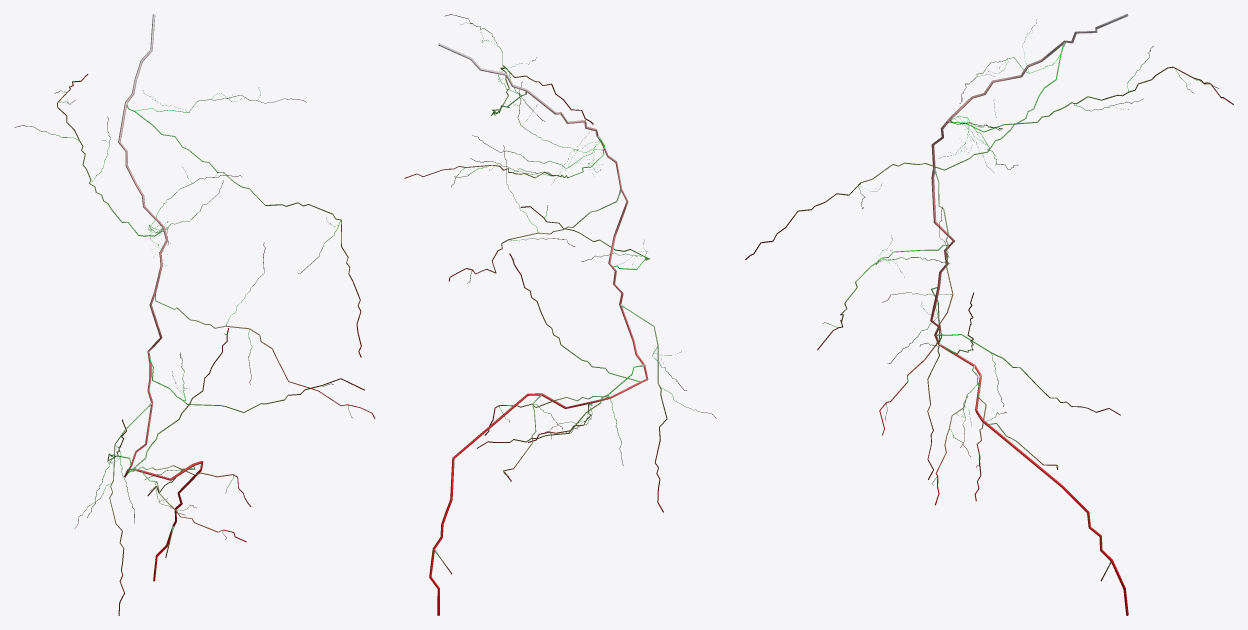
File: SM_Lightning_01.fbx
3 renders of one model, left to right at view 1: azimuth 30°, elevation 25°; view 2: azimuth 150°, elevation 25°; view 3: azimuth 270°, elevation 25°, orthographic. The views are drawn at different scales.
Visible parts, largest first — view 1: timeshift2; view 2: timeshift2; view 3: timeshift2.
Part boxes in pixels (bbox=[...]): timeshift2: bbox=[14, 14, 375, 615]; timeshift2: bbox=[404, 14, 716, 615]; timeshift2: bbox=[745, 14, 1233, 615].
Bounding box in the file's own units: 52.25 × 100 × 73.65.
